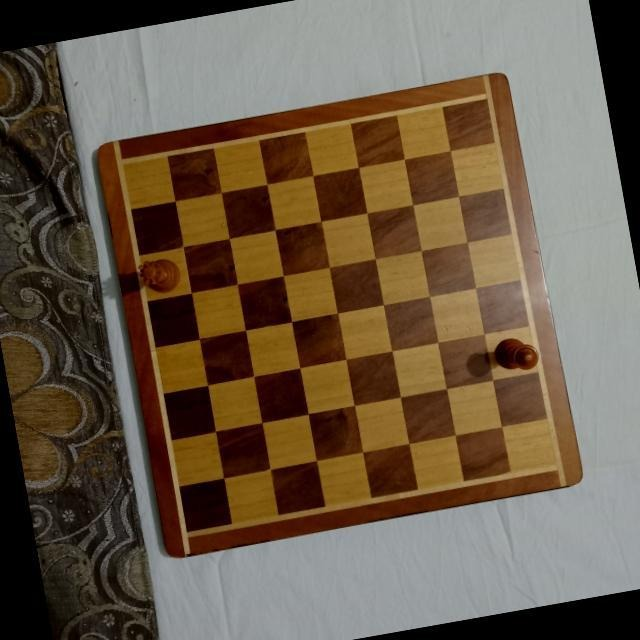white-king: (490, 332, 542, 376)
white-queen: (131, 253, 180, 298)
